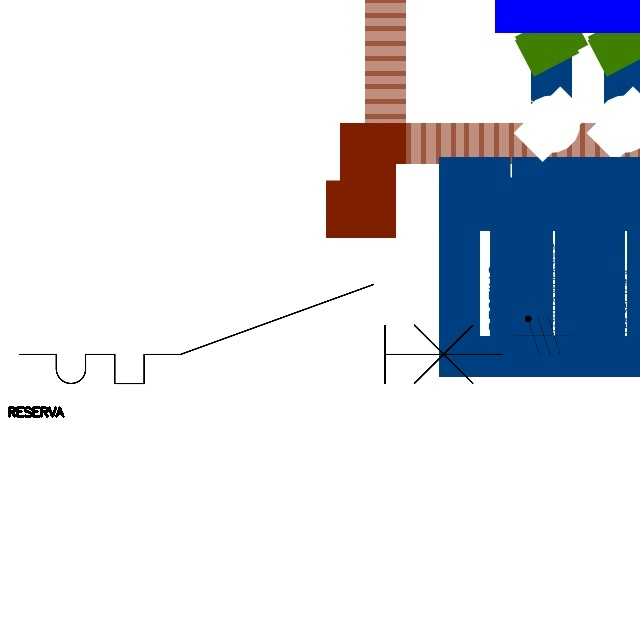interruptor_termomagnetico: (7, 272, 514, 396)
